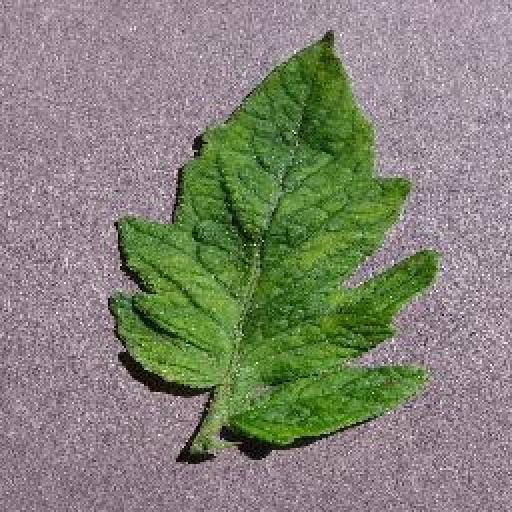Mosaic Virus: (104, 26, 442, 446)
